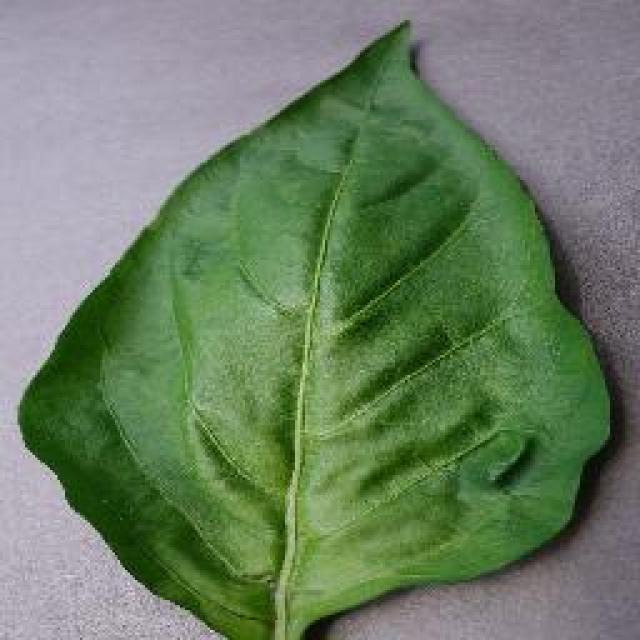Chilli_Healthy: (15, 18, 615, 638)
